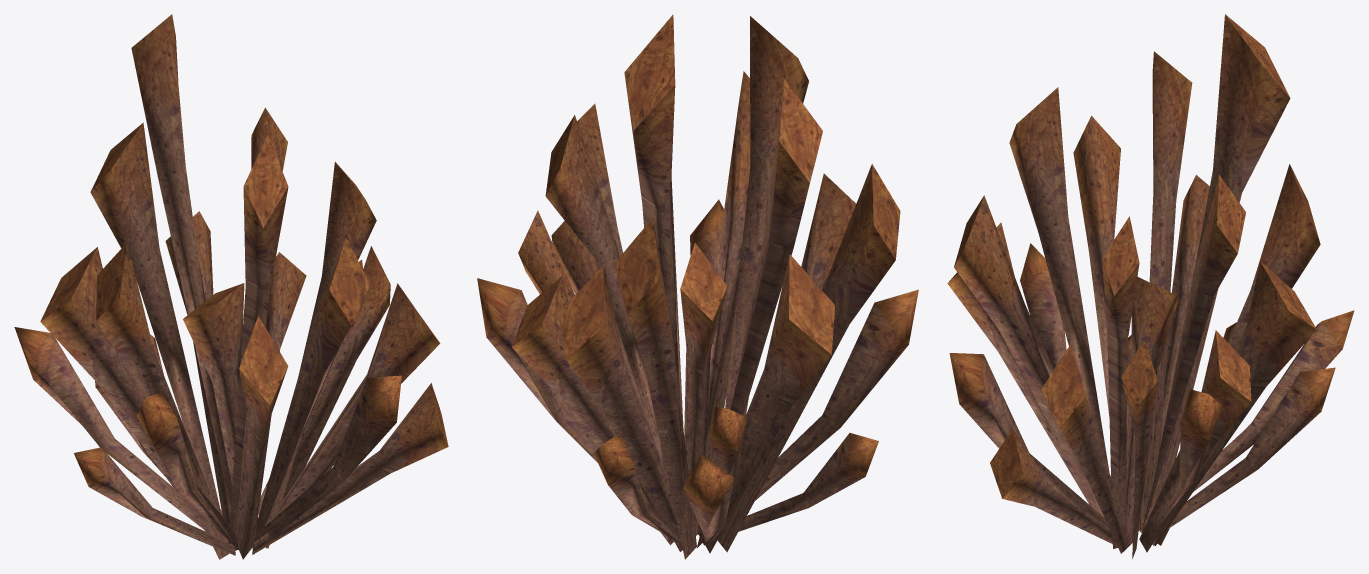
File: Shroom_Plant2_1_L3.fbx
3 renders of one model, left to right at view 1: azimuth 30°, elevation 25°; view 2: azimuth 150°, elevation 25°; view 3: azimuth 270°, elevation 25°, orthographic. The views are drawn at different scales.
Visible parts, largest first — view 1: polySurface285; view 2: polySurface285; view 3: polySurface285.
Part boxes in pixels (x1,y1,x2,y2): polySurface285: (14,14,448,559); polySurface285: (477,14,918,559); polySurface285: (947,14,1354,558).
Bounding box in the file's own units: 85.26 × 127 × 90.
